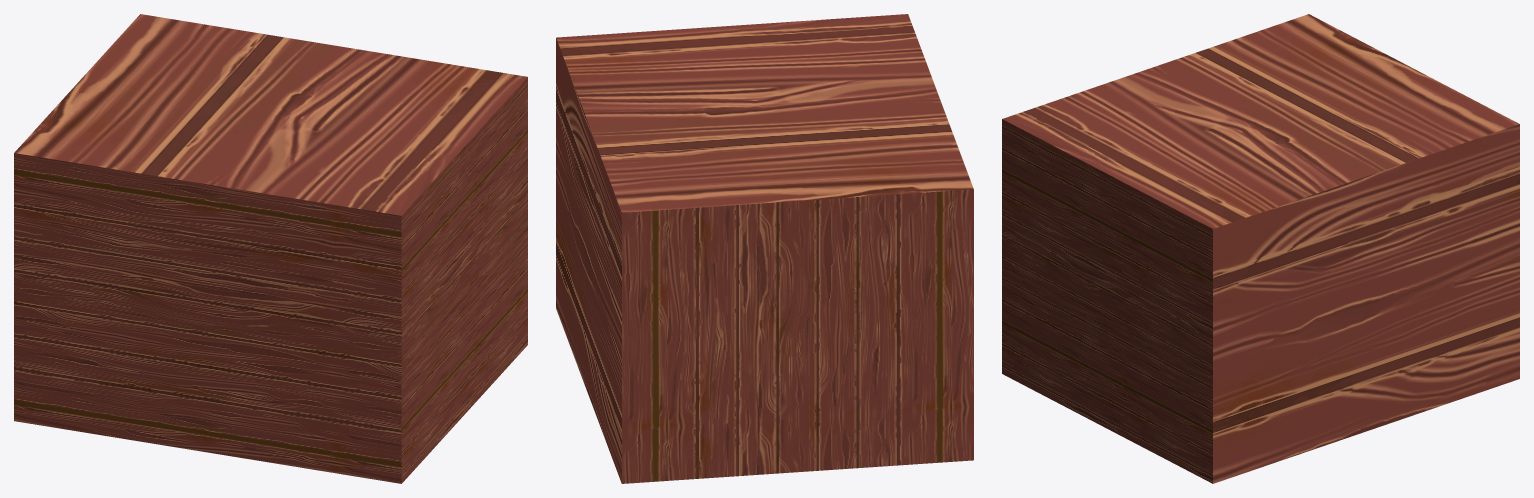
3 views of the same model, side by side, from view 1: azimuth 30°, elevation 25°; view 2: azimuth 150°, elevation 25°; view 3: azimuth 270°, elevation 25° (orthographic). The views are drawn at different scales.
Visible parts, largest first — view 1: Cube.641; view 2: Cube.641; view 3: Cube.641.
Part boxes in pixels (x1,y1,x2,y2): Cube.641: (14,14,527,483); Cube.641: (556,14,973,483); Cube.641: (1002,14,1519,483).
Size of the model in its own units: 1160 by 641 by 1180.
1 material, 1 textured.
